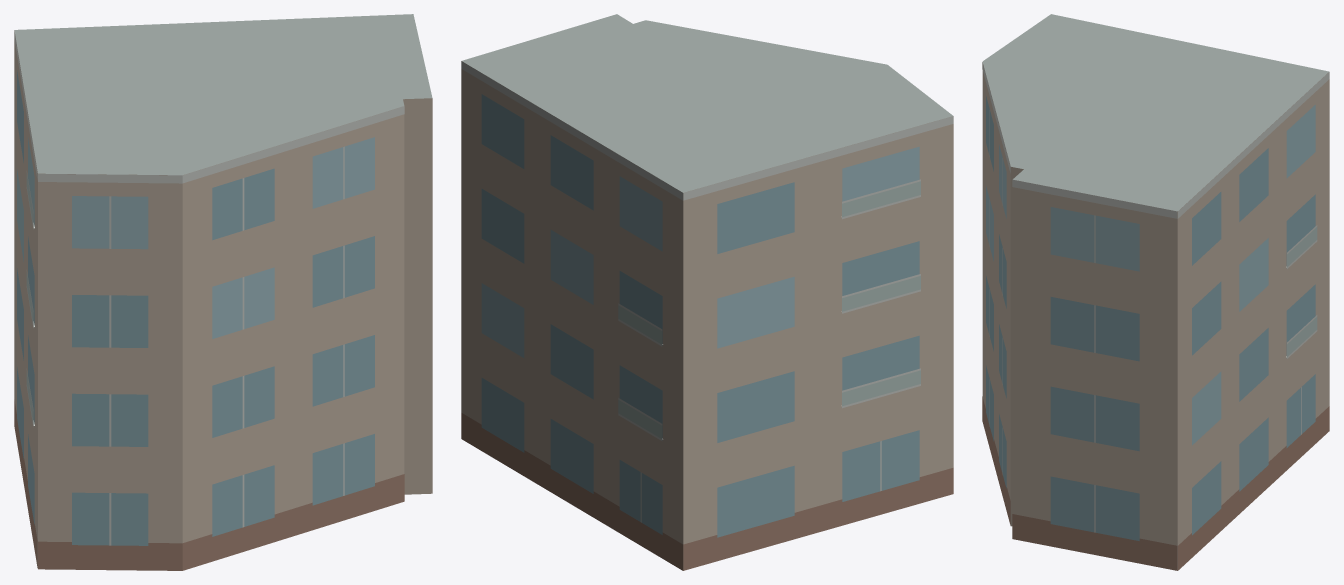
File: survey-upis-32799401.glb
3 renders of one model, left to right at view 1: azimuth 30°, elevation 25°; view 2: azimuth 150°, elevation 25°; view 3: azimuth 270°, elevation 25°, orthographic. The views are drawn at different scales.
Visible parts, largest first — view 1: survey-upis-32799401.tmp; view 2: survey-upis-32799401.tmp; view 3: survey-upis-32799401.tmp.
Boxes of the visible parts, x1,y1,x2,y2 form: survey-upis-32799401.tmp: [14, 14, 432, 570]; survey-upis-32799401.tmp: [461, 14, 953, 570]; survey-upis-32799401.tmp: [982, 14, 1329, 570].
Size of the model in its own units: 13.79 by 11.7 by 10.25.
